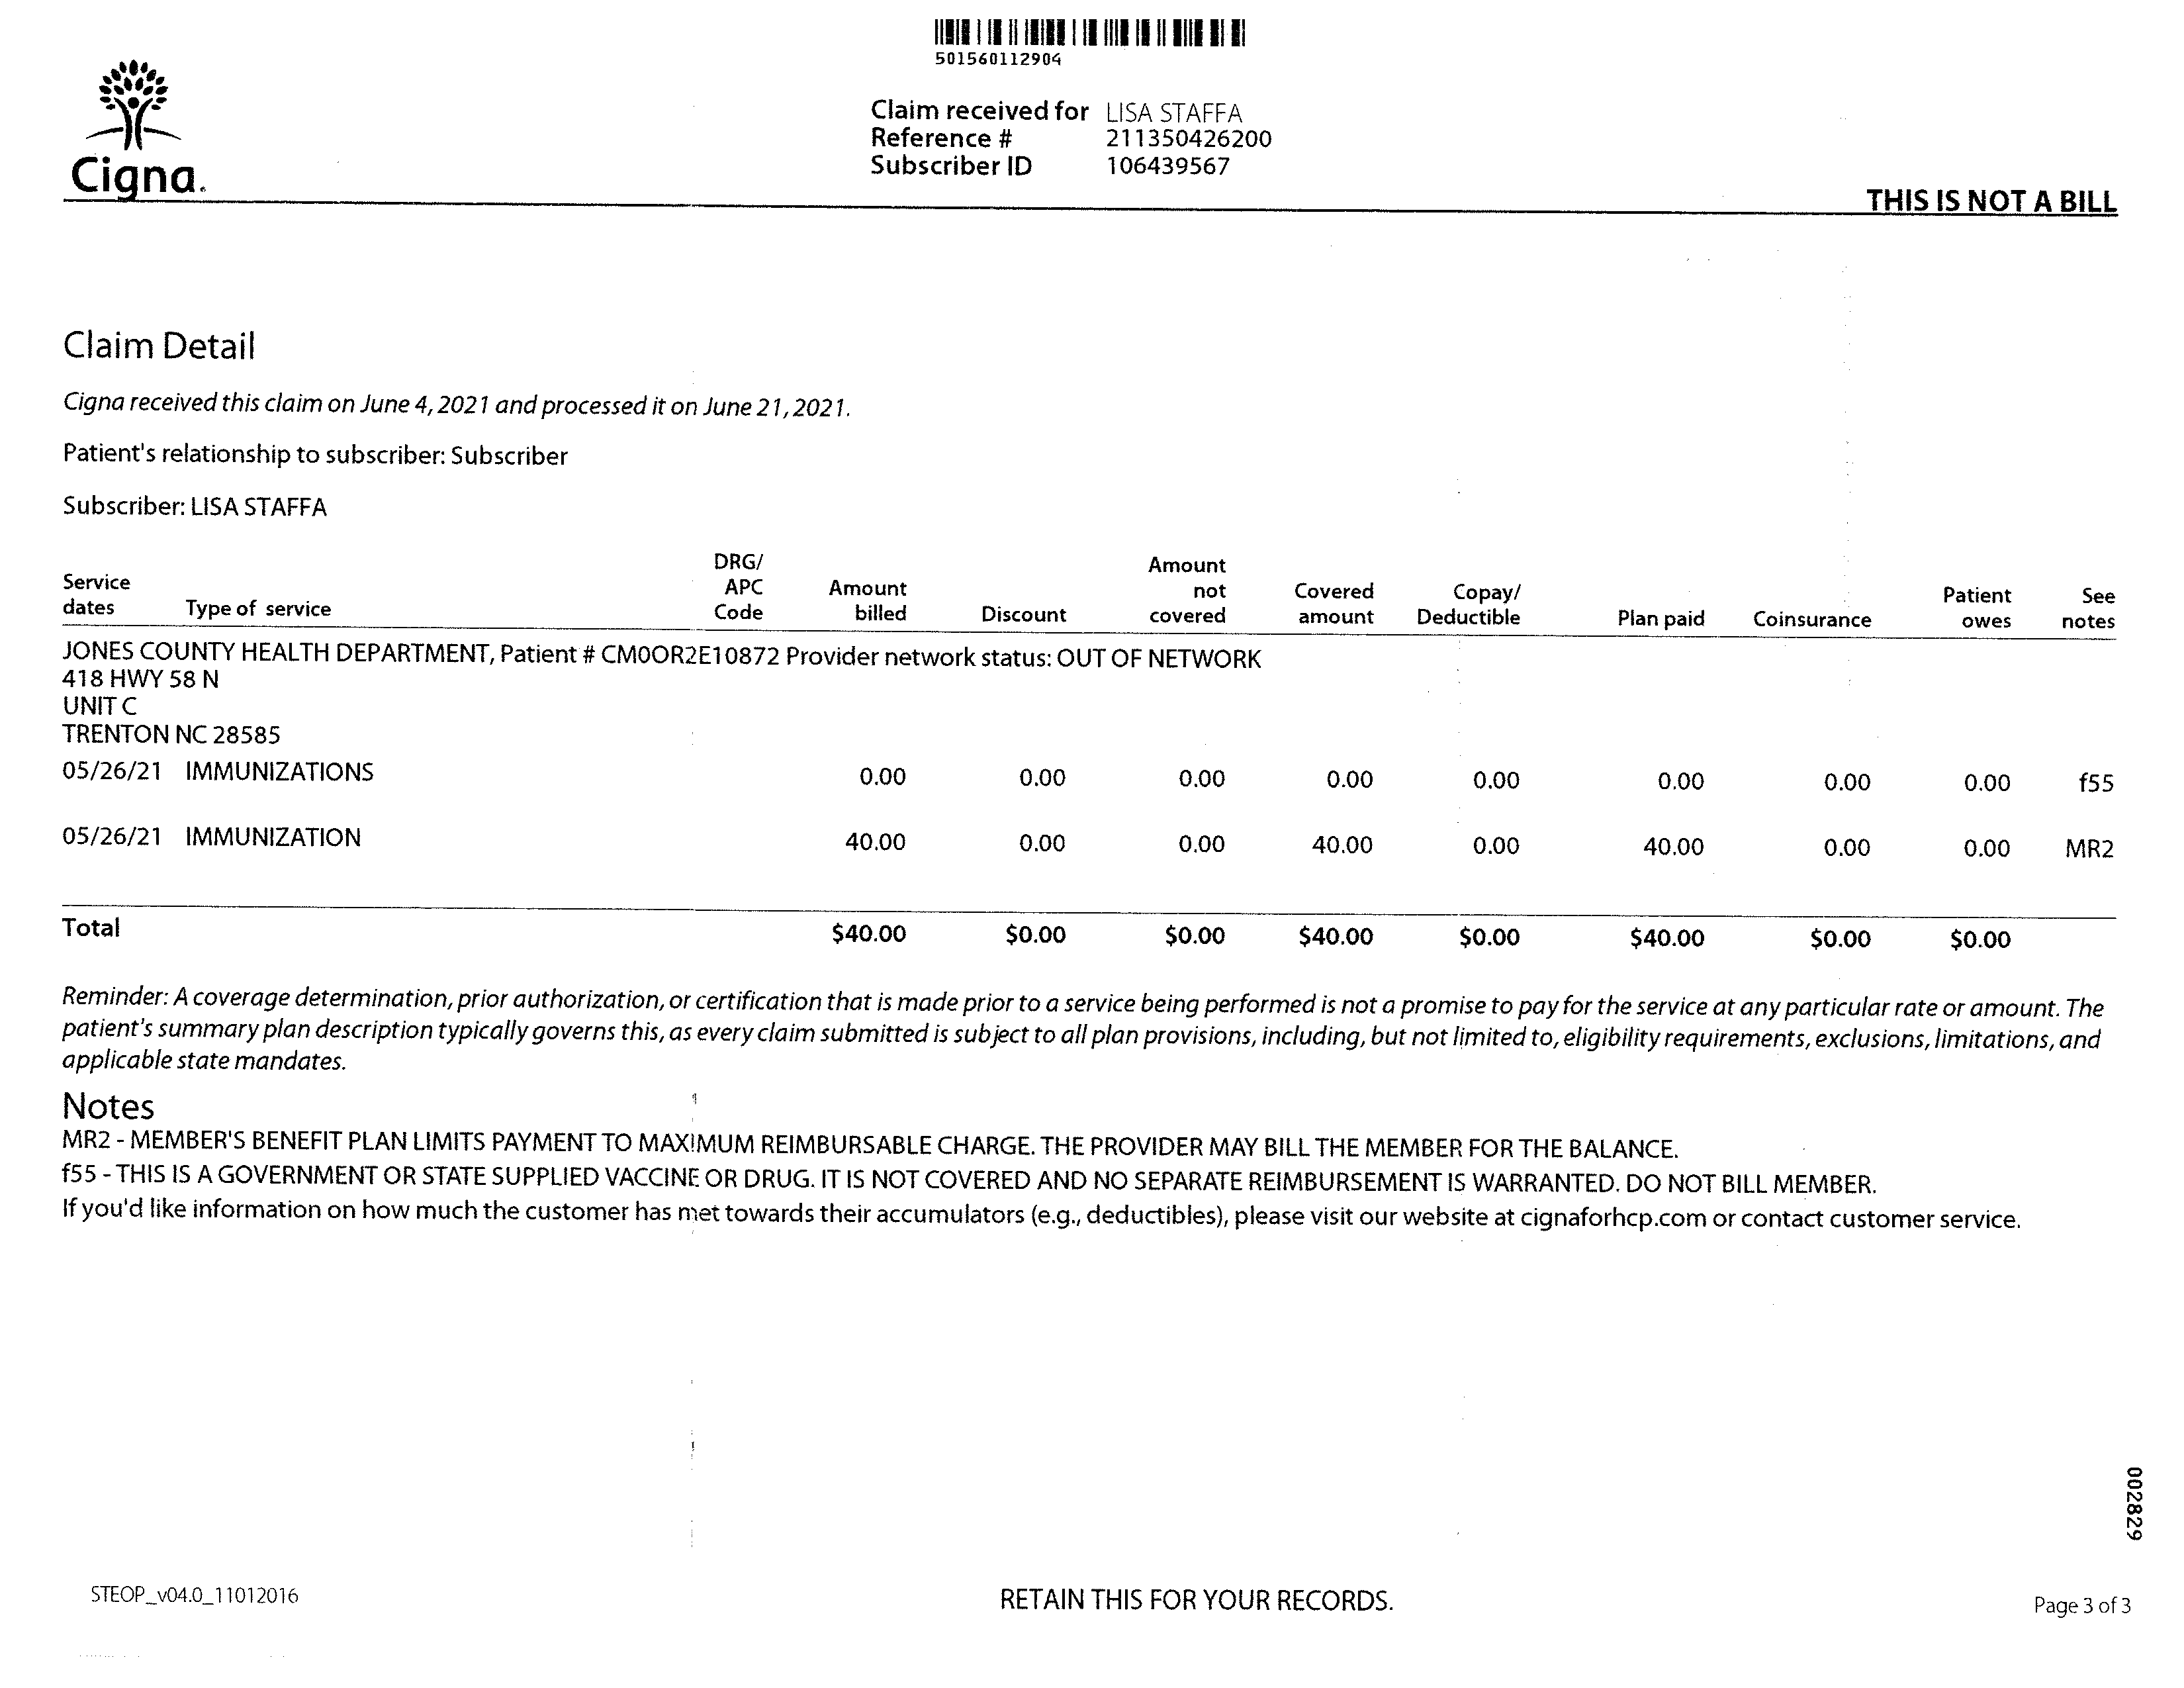table: (60, 566, 2141, 963)
